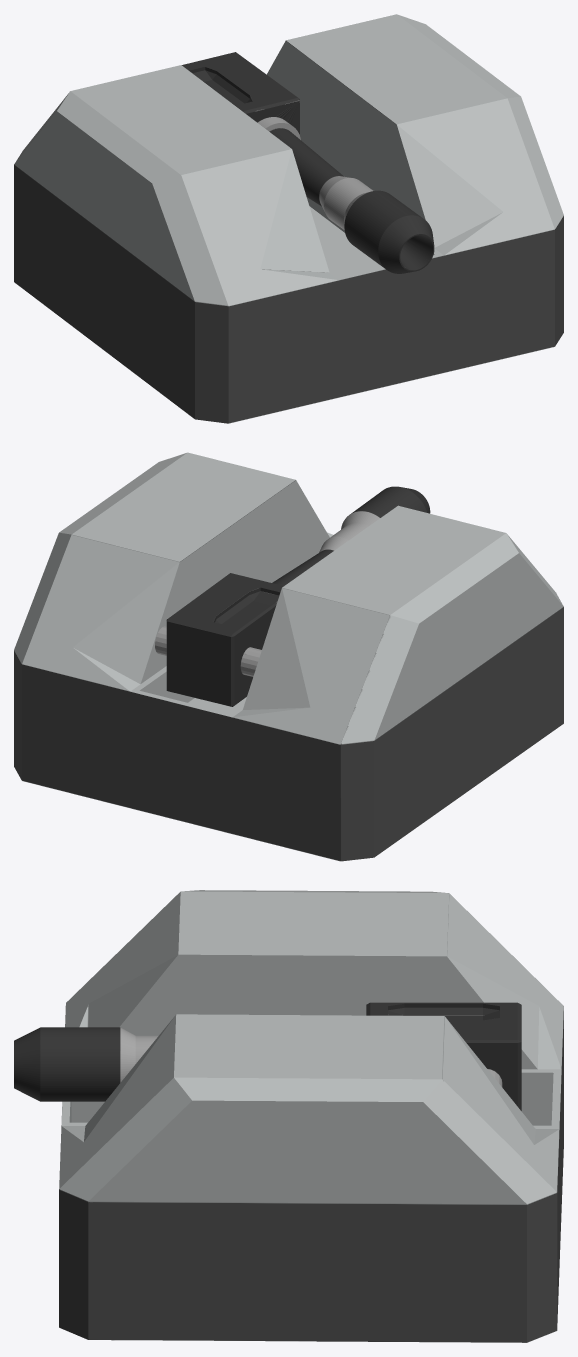
File: TurretTest.fbx
3 renders of one model, top to bottom at view 1: azimuth 30°, elevation 25°; view 2: azimuth 150°, elevation 25°; view 3: azimuth 270°, elevation 25°, orthographic. The views are drawn at different scales.
Parts seen in each view (by area): view 1: Base, Turret head; view 2: Base, Turret head; view 3: Base, Turret head.
Boxes of the visible parts, <box> form: Base: <box>14,14,563,423</box>; Turret head: <box>182,52,434,273</box>; Base: <box>14,452,563,861</box>; Turret head: <box>155,486,430,706</box>; Base: <box>59,890,563,1342</box>; Turret head: <box>14,1002,521,1110</box>.
Size of the model in its own units: 40.54 by 22.22 by 44.17.
